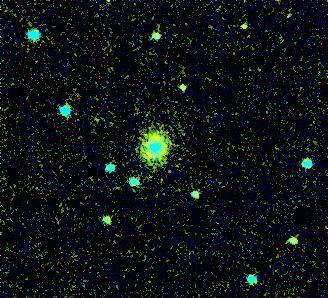star: (230, 4, 260, 34)
